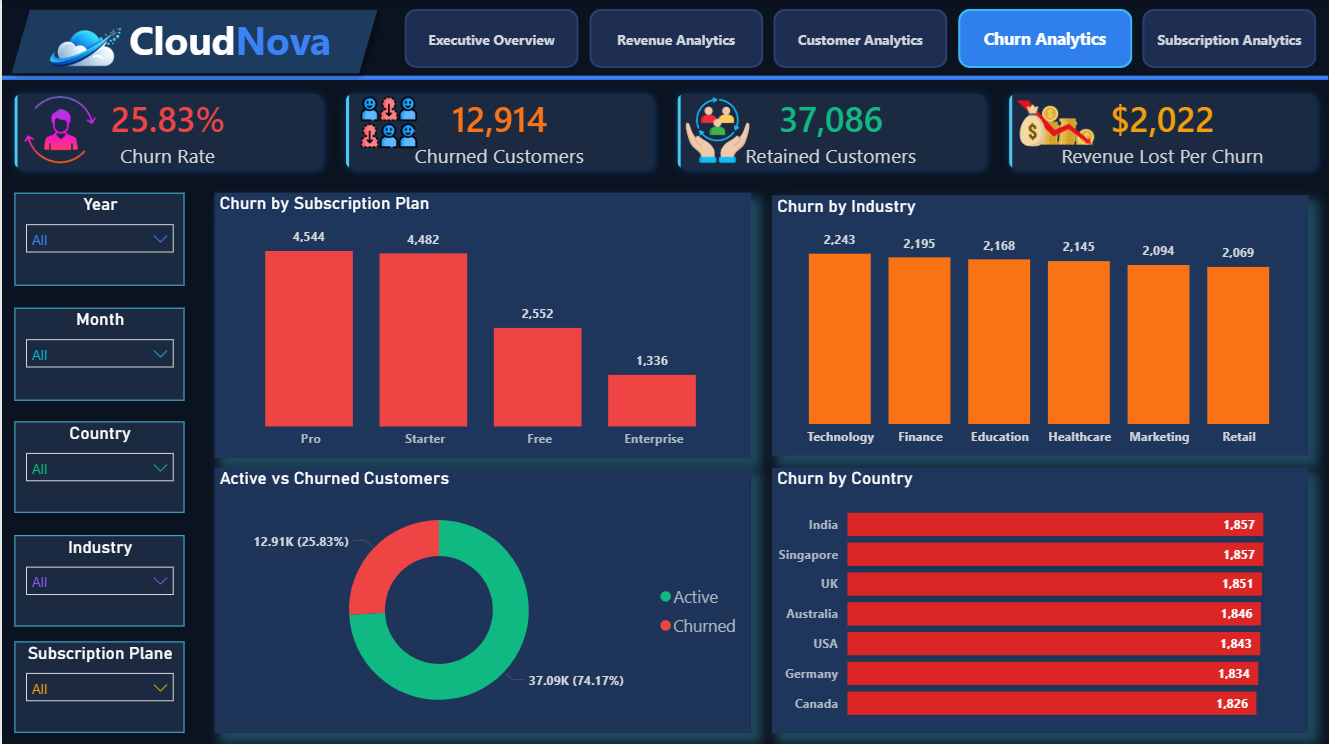

This screenshot's page, from the dashboard's own definition file:
{"tool":"powerbi","page":{"name":"Churn Analytics","canvas":[1280,720],"ordinal":3},"visuals":[{"type":"cardVisual","fields":{"Data":["customers_cleaned.Churn Rate","customers_cleaned.Churned Customers","customers_cleaned.Retained Customers","customers_cleaned.Revenue Lost Per Churn"]},"box":[0,79.6,1280,96.5],"z":0},{"type":"shape","box":[0,57.5,1280,36.2],"z":1000},{"type":"image","box":[963.9,80.8,106.2,78.4],"z":2000},{"type":"image","box":[336.6,91.7,73.6,54.3],"z":3000},{"type":"image","box":[650.3,94.1,80.8,65.1],"z":4000},{"type":"image","box":[21.7,88.1,68.8,76],"z":5000},{"type":"clusteredColumnChart","title":"Churn by Subscription Plan","fields":{"Category":["subscriptions_cleaned.plan_name"],"Y":["customers_cleaned.Churned Customers"]},"box":[205.1,187,517.6,255.8],"z":6000},{"type":"clusteredColumnChart","title":"Churn by Industry","fields":{"Category":["customers_cleaned.industry"],"Y":["customers_cleaned.Churned Customers"]},"box":[743.2,189.4,517.6,250.9],"z":7000},{"type":"clusteredBarChart","title":"Churn by Country","fields":{"Category":["customers_cleaned.country"],"Y":["customers_cleaned.Churned Customers"]},"box":[743.2,452.4,517.6,255.8],"z":8000},{"type":"donutChart","title":"Active vs Churned Customers","fields":{"Y":["customers_cleaned.Total Customers"],"Category":["customers_cleaned.Churn Status"]},"box":[205.1,452.4,517.6,255.8],"z":9000},{"type":"slicer","title":"Year","fields":{"Values":["Date_Table.Year"]},"box":[12.1,187,164.1,89.3],"z":10000},{"type":"slicer","title":"Country","fields":{"Values":["customers_cleaned.country"]},"box":[12.1,407.8,164.1,88.1],"z":11000},{"type":"slicer","title":"Industry","fields":{"Values":["customers_cleaned.industry"]},"box":[12.1,517.6,164.1,88.1],"z":12000},{"type":"slicer","title":"Subscription Plane","fields":{"Values":["subscriptions_cleaned.plan_name"]},"box":[12.1,620.1,164.1,88.1],"z":13000},{"type":"slicer","title":"Month","fields":{"Values":["Date_Table.Month"]},"box":[12.1,298,164.1,89.3],"z":14000},{"type":"shape","box":[0,1.2,371.6,79.6],"z":15000},{"type":"textbox","box":[94.1,9.7,252.1,70],"z":16000},{"type":"image","box":[0,0,160.5,94.1],"z":17000},{"type":"pageNavigator","box":[388.5,9.7,884.3,57.9],"z":18000}]}

Visuals, with their boxes in screenshot pixels (x1, y1, x2, y2), scaled from the page's 1280x720 canvas onto the 1329x744 screenshot:
cardVisual - customers_cleaned.Churn Rate x customers_cleaned.Churned Customers: <box>0,82,1328,182</box>
shape: <box>0,59,1328,97</box>
image: <box>1001,83,1111,165</box>
image: <box>349,95,426,151</box>
image: <box>675,97,759,165</box>
image: <box>23,91,94,170</box>
"Churn by Subscription Plan" clusteredColumnChart: <box>213,193,750,458</box>
"Churn by Industry" clusteredColumnChart: <box>772,196,1309,455</box>
"Churn by Country" clusteredBarChart: <box>772,467,1309,732</box>
"Active vs Churned Customers" donutChart: <box>213,467,750,732</box>
"Year" slicer: <box>13,193,183,286</box>
"Country" slicer: <box>13,421,183,512</box>
"Industry" slicer: <box>13,535,183,626</box>
"Subscription Plane" slicer: <box>13,641,183,732</box>
"Month" slicer: <box>13,308,183,400</box>
shape: <box>0,1,386,83</box>
textbox: <box>98,10,359,82</box>
image: <box>0,0,167,97</box>
pageNavigator: <box>403,10,1322,70</box>
